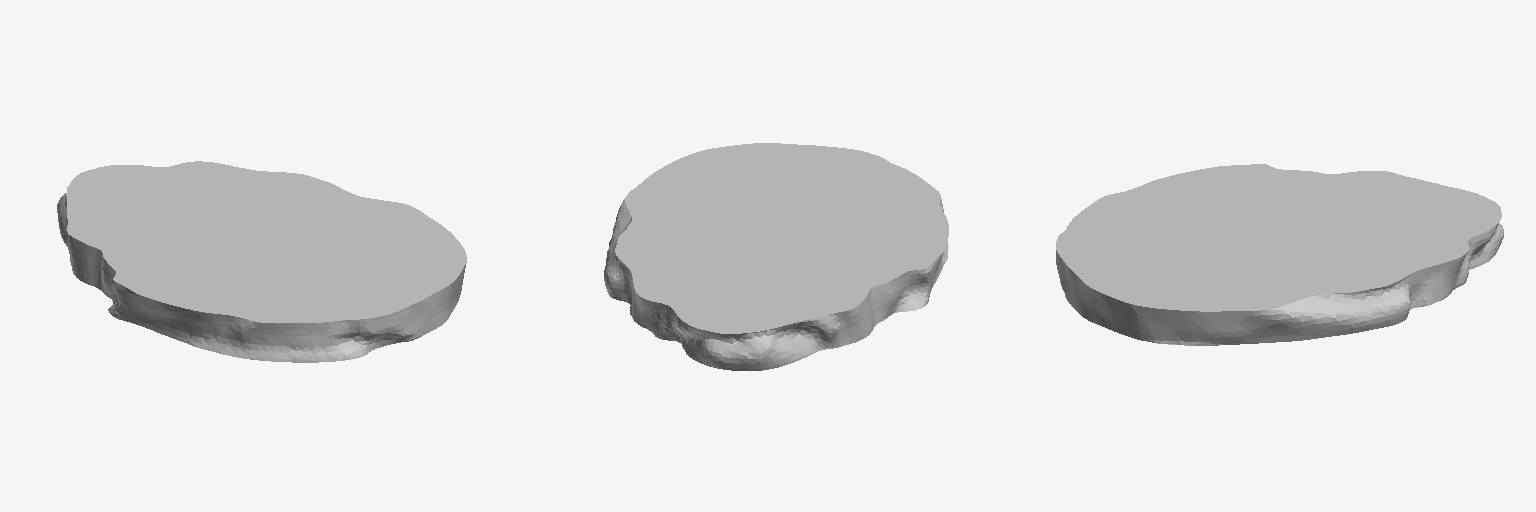
3 renders of one model, left to right at view 1: azimuth 30°, elevation 25°; view 2: azimuth 150°, elevation 25°; view 3: azimuth 270°, elevation 25°, orthographic.
Visible parts, largest first — view 1: low.015_Fotogrametria_MarioGomes_V01_Model_2.016; view 2: low.015_Fotogrametria_MarioGomes_V01_Model_2.016; view 3: low.015_Fotogrametria_MarioGomes_V01_Model_2.016.
Part boxes in pixels (left/top/right/bottom): low.015_Fotogrametria_MarioGomes_V01_Model_2.016: left=57, top=161, right=466, bottom=362; low.015_Fotogrametria_MarioGomes_V01_Model_2.016: left=604, top=143, right=948, bottom=370; low.015_Fotogrametria_MarioGomes_V01_Model_2.016: left=1056, top=164, right=1503, bottom=345.
Size of the model in its own units: 1.73 by 0.2011 by 2.21.